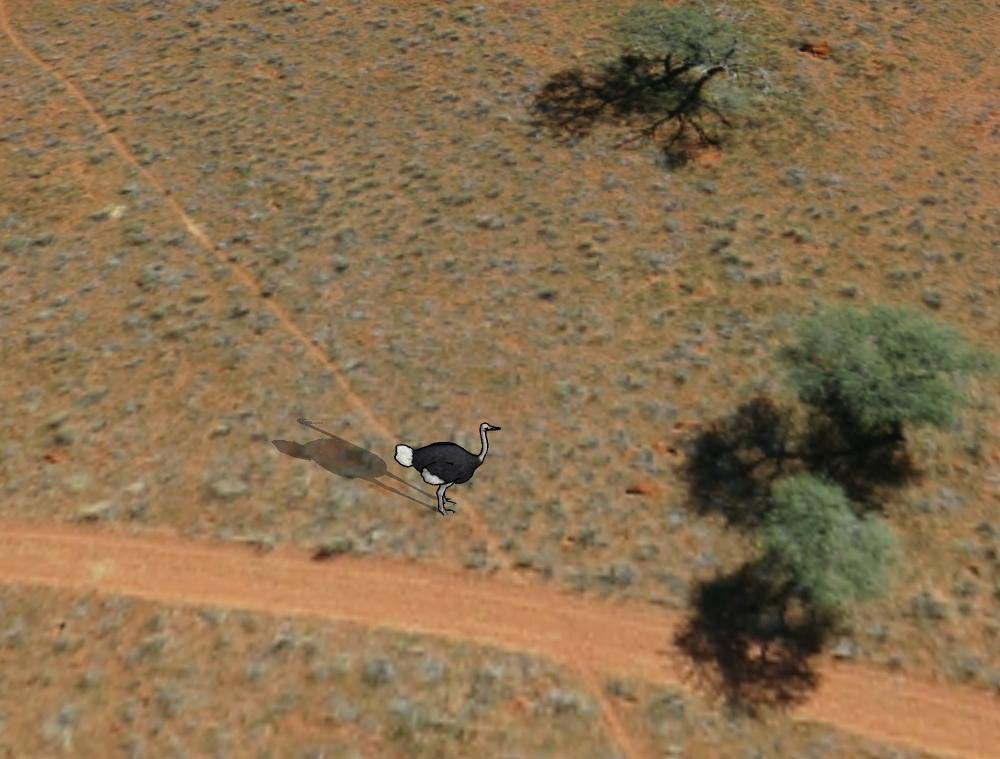ostrich: (391, 421, 504, 516)
